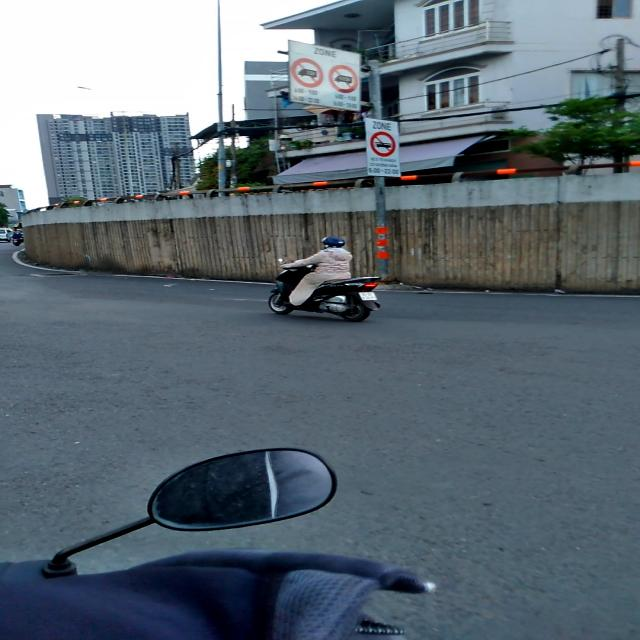P.106b: (290, 58, 324, 88), (328, 64, 359, 94)
P.107a: (370, 131, 396, 157)
